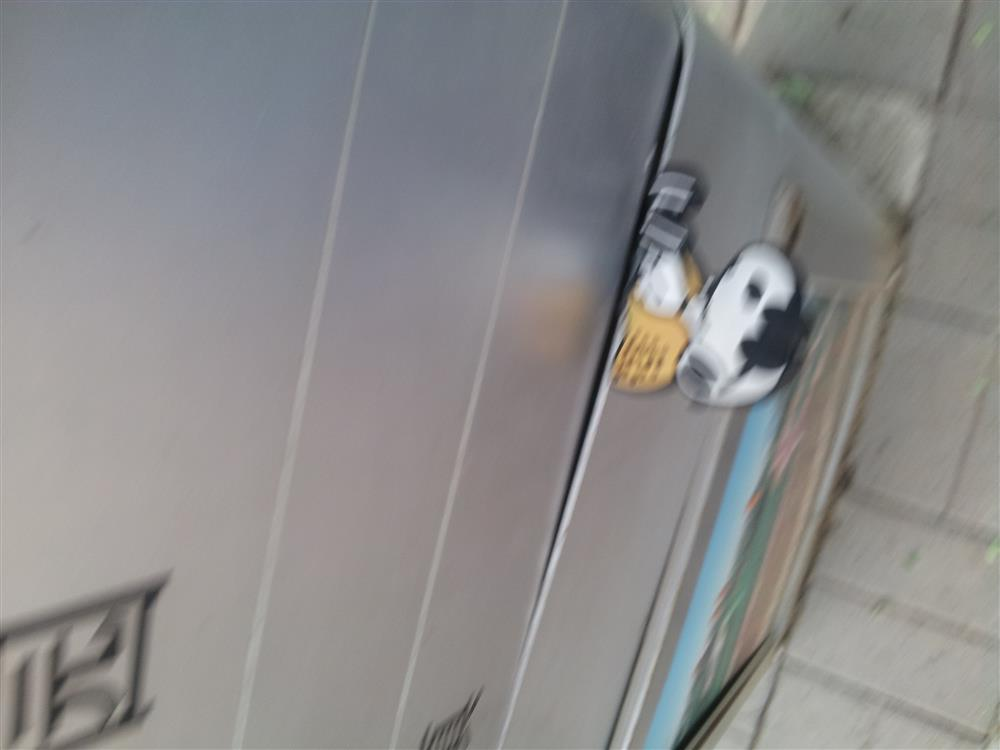DDog: (607, 184, 829, 451)
